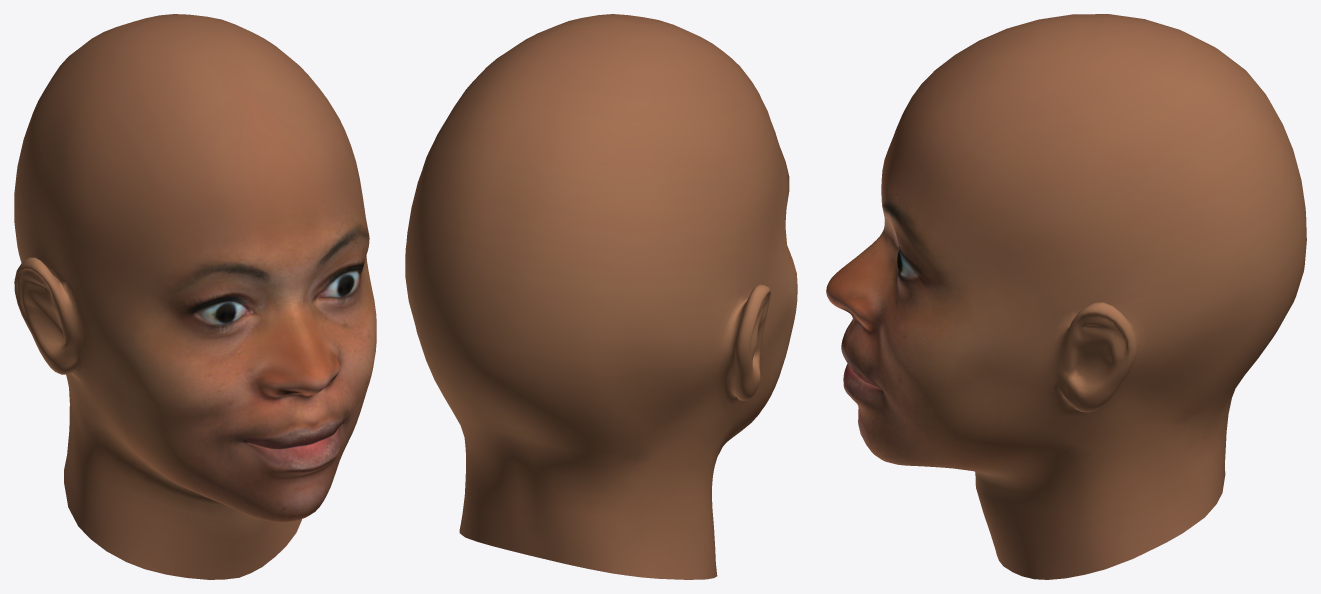
The model's file is v332_obj_ExpressionDimpleRight.obj.
3 renders of one model, left to right at view 1: azimuth 30°, elevation 25°; view 2: azimuth 150°, elevation 25°; view 3: azimuth 270°, elevation 25°, orthographic. The views are drawn at different scales.
Visible parts, largest first — view 1: HeadHires; view 2: HeadHires; view 3: HeadHires.
Part boxes in pixels (x1,y1,x2,y2): HeadHires: (14, 14, 376, 579); HeadHires: (405, 14, 797, 579); HeadHires: (826, 14, 1306, 579).
Bounding box in the file's own units: 187 × 282 × 233.
